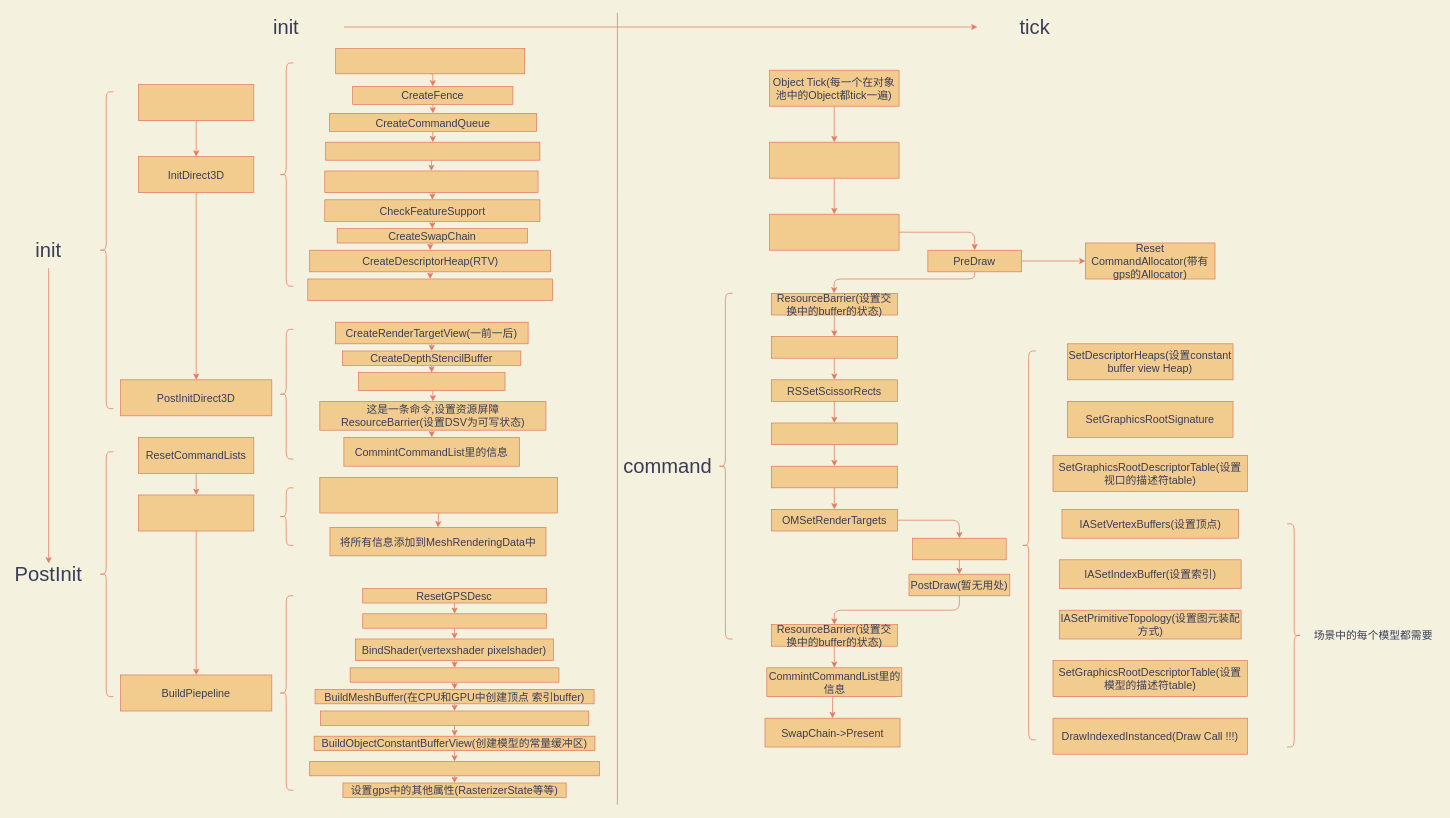
Image size: 1450x818. Some labels were removed from this diagram. Each missing label, with the centre of its shape:
"BindInputLayout(着色器的输入输出布局)" goes at point 454,674.
"BuildMeshDescData，为每个模型设置顶点和索引信息" goes at point 438,495.
"BuildViewportConstantBufferView(创建视口的常量缓冲区)" goes at point 454,768.
"ClearDepthStencilView" goes at point 834,476.
"ClearRenderTargetView" goes at point 834,433.
"Create and Bind RootSignature" goes at point 454,620.
"CreateCommandAllocator" goes at point 432,150.
"CreateCommandList" goes at point 431,181.
"CreateDepthStencilView" goes at point 431,381.
"CreateDescriptorHeap(DSV)" goes at point 429,289.
"CreateDescriptorHeap(用于存放常量缓冲区Buffer)" goes at point 454,717.
"CreateMesh" goes at point 196,512.
"D3D12CreateDevice" goes at point 430,61.
"Draw" goes at point 959,548.
"InitWindows" goes at point 196,102.
"Reset CommandAllocator" goes at point 834,231.
"RSSetViewports" goes at point 834,347.
"UpdateCalculations(更新常量缓冲区中的值，也就是mvp矩阵)" goes at point 834,159.
